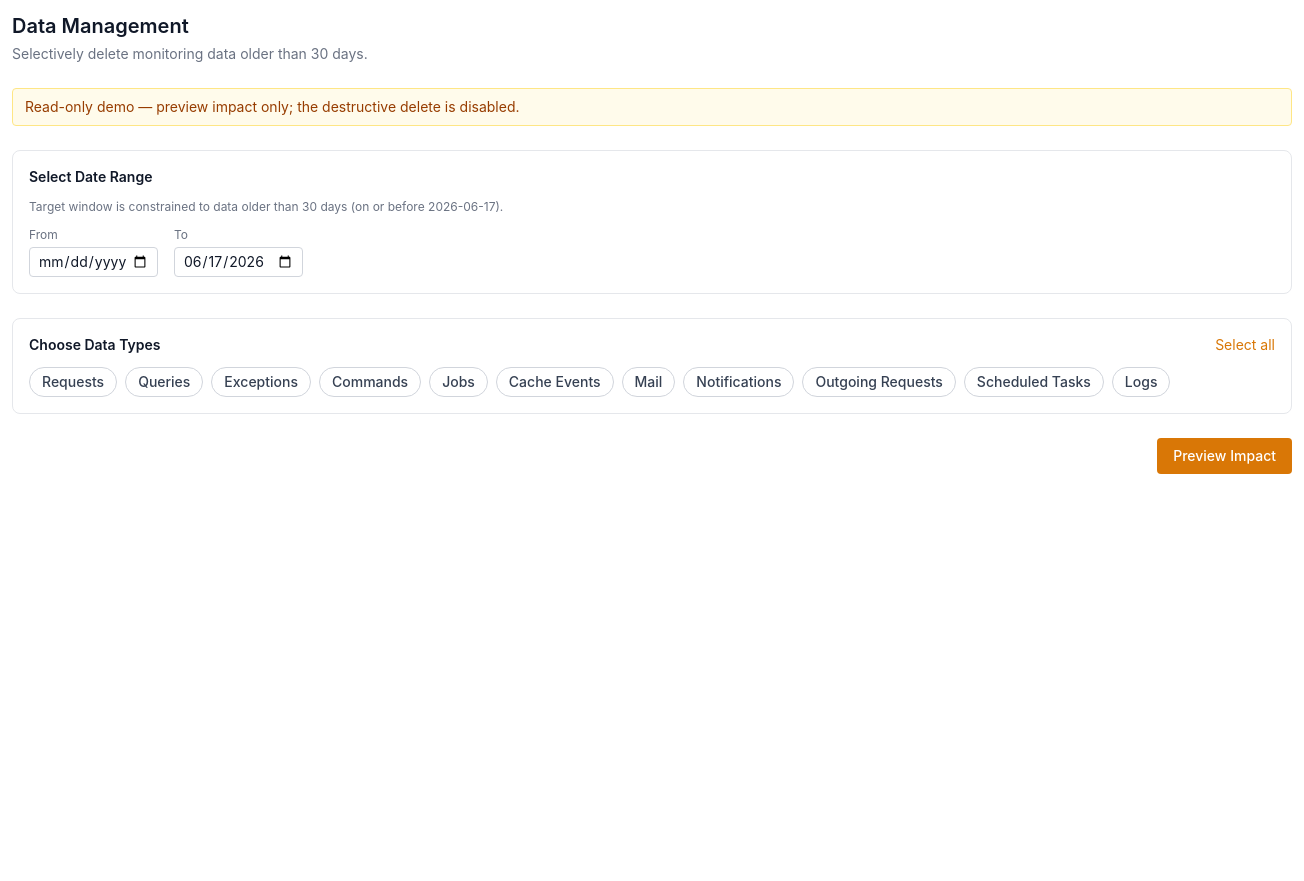
Test case: DataManagementPage › selects a chip, previews impact and renders the returned counts + total
Click the button "Requests".
click(73, 382)  # box [29,367,117,397]
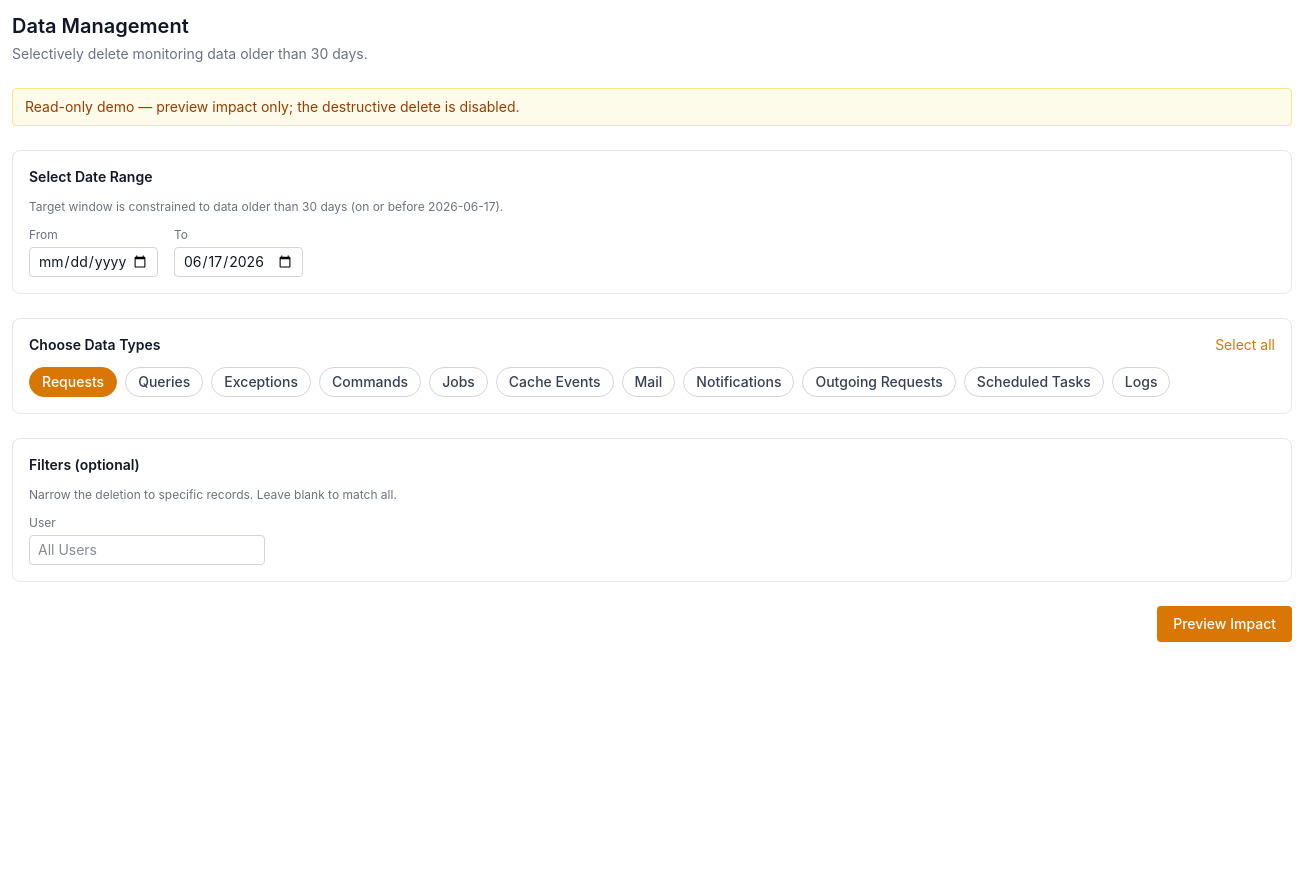
Click the button "Preview Impact".
click(1225, 624)  # box [1157,606,1292,642]
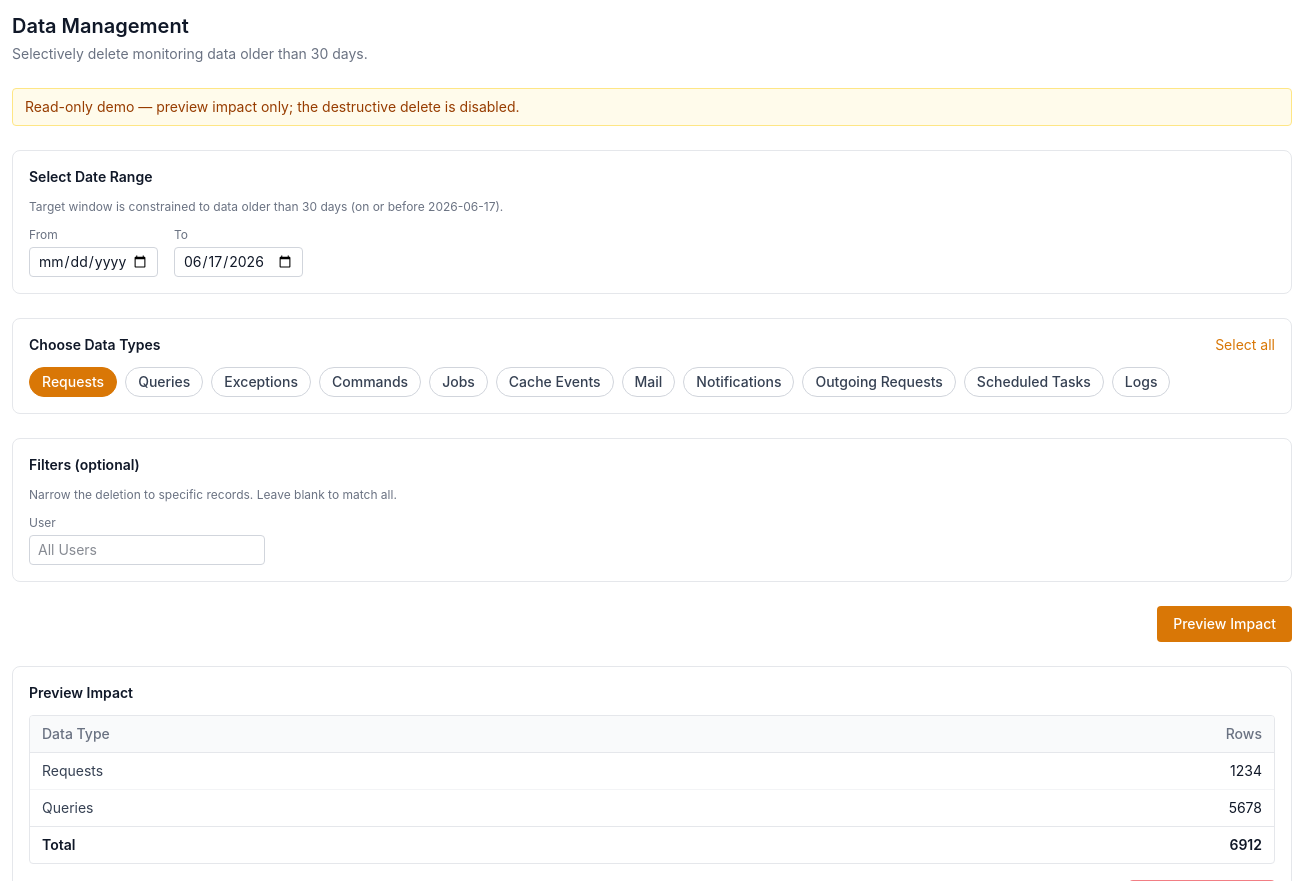
Expected: the text "1234" is shown, [781,752,1274,790]
Expected: the text "6912" is shown, [781,826,1274,863]
